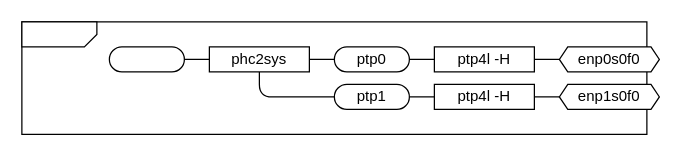
Image size: 681x156. Some labels were removed from this diagram. The centre of each missing label's shape, as x and y in pixels:
"ECU" goes at [59,34].
"sys" goes at [146,59].
